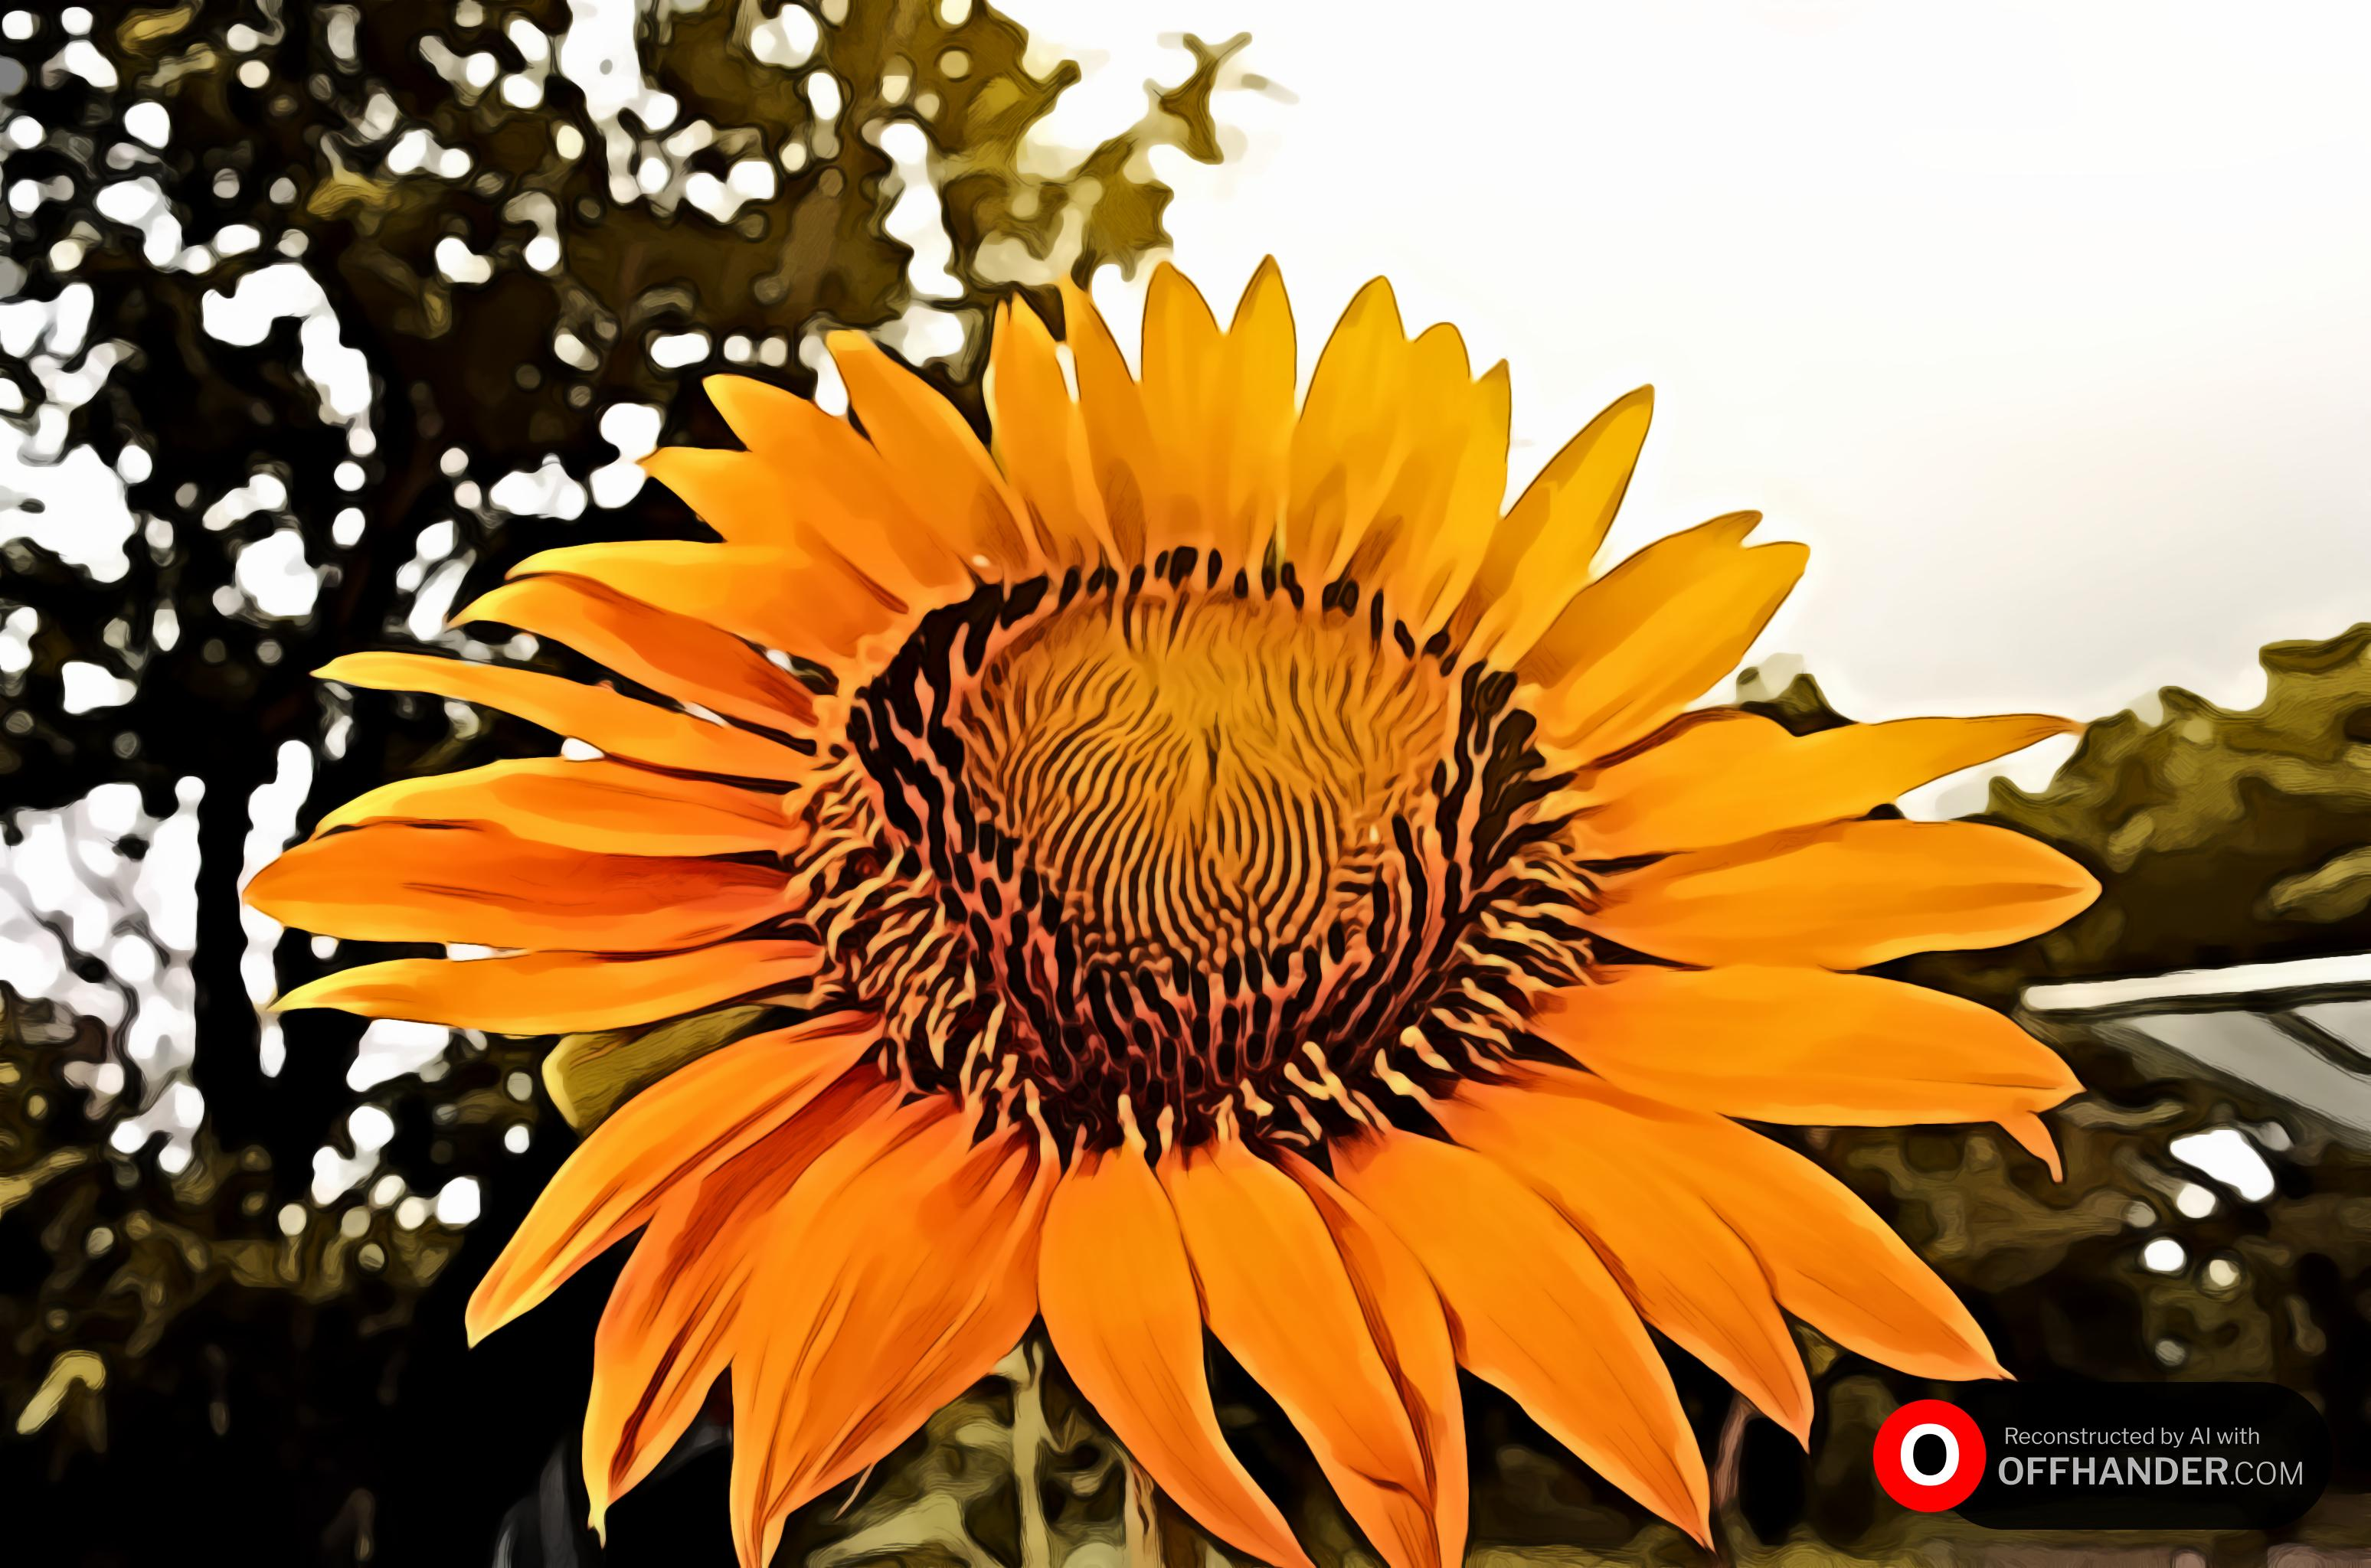sunflowers: (240, 238, 2002, 1512)
